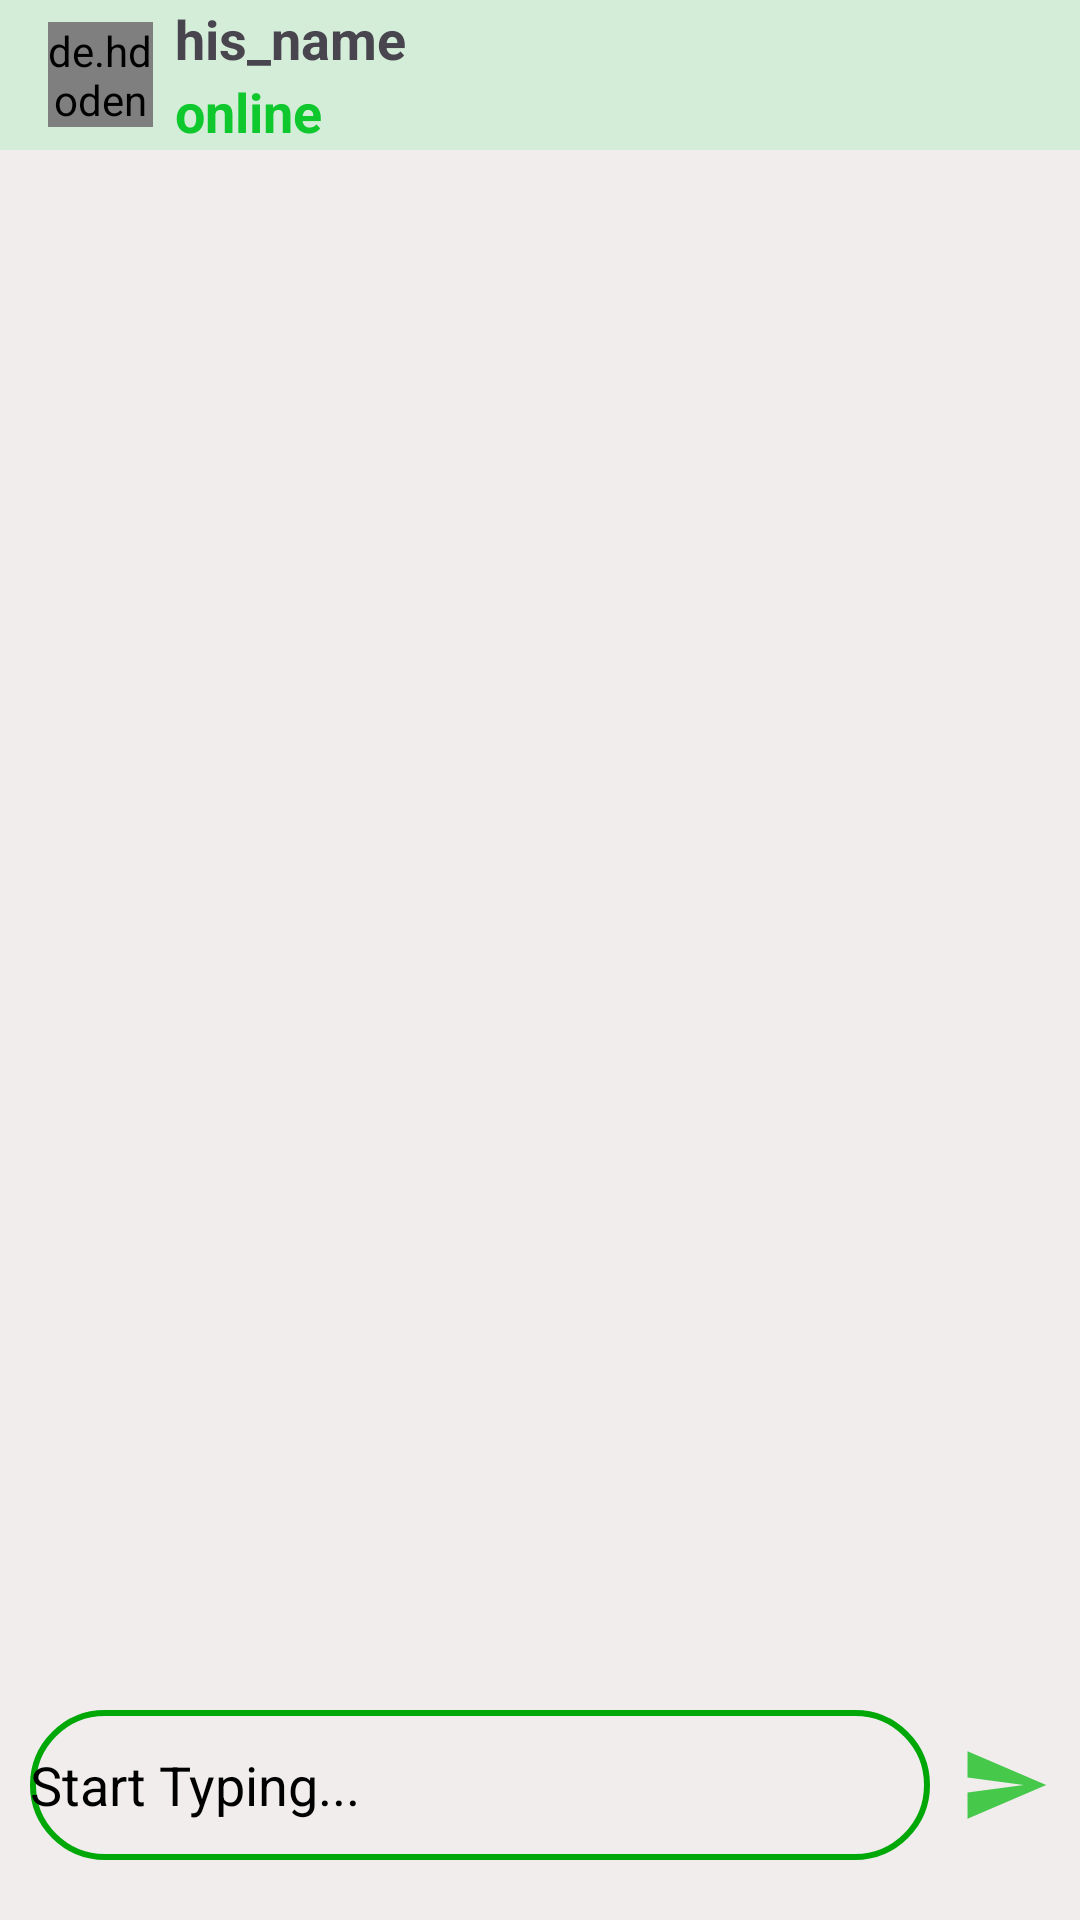

Icon click points for this 1080 × 1920 phone screenshot, format (x=x, y=y):
send: (x=1006, y=1785)
